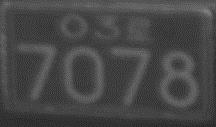0: (62, 46, 106, 104), (59, 13, 88, 40)
3: (93, 14, 120, 40)
7: (109, 45, 151, 105), (15, 42, 56, 99)
8: (158, 48, 200, 109)
로: (126, 16, 152, 45)
